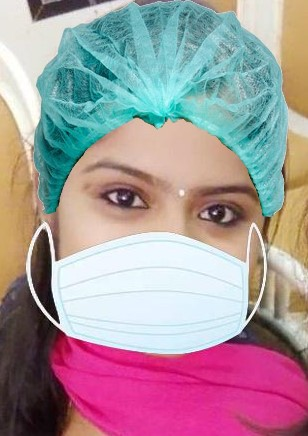with_mask_and_cap: (36, 5, 269, 354)
